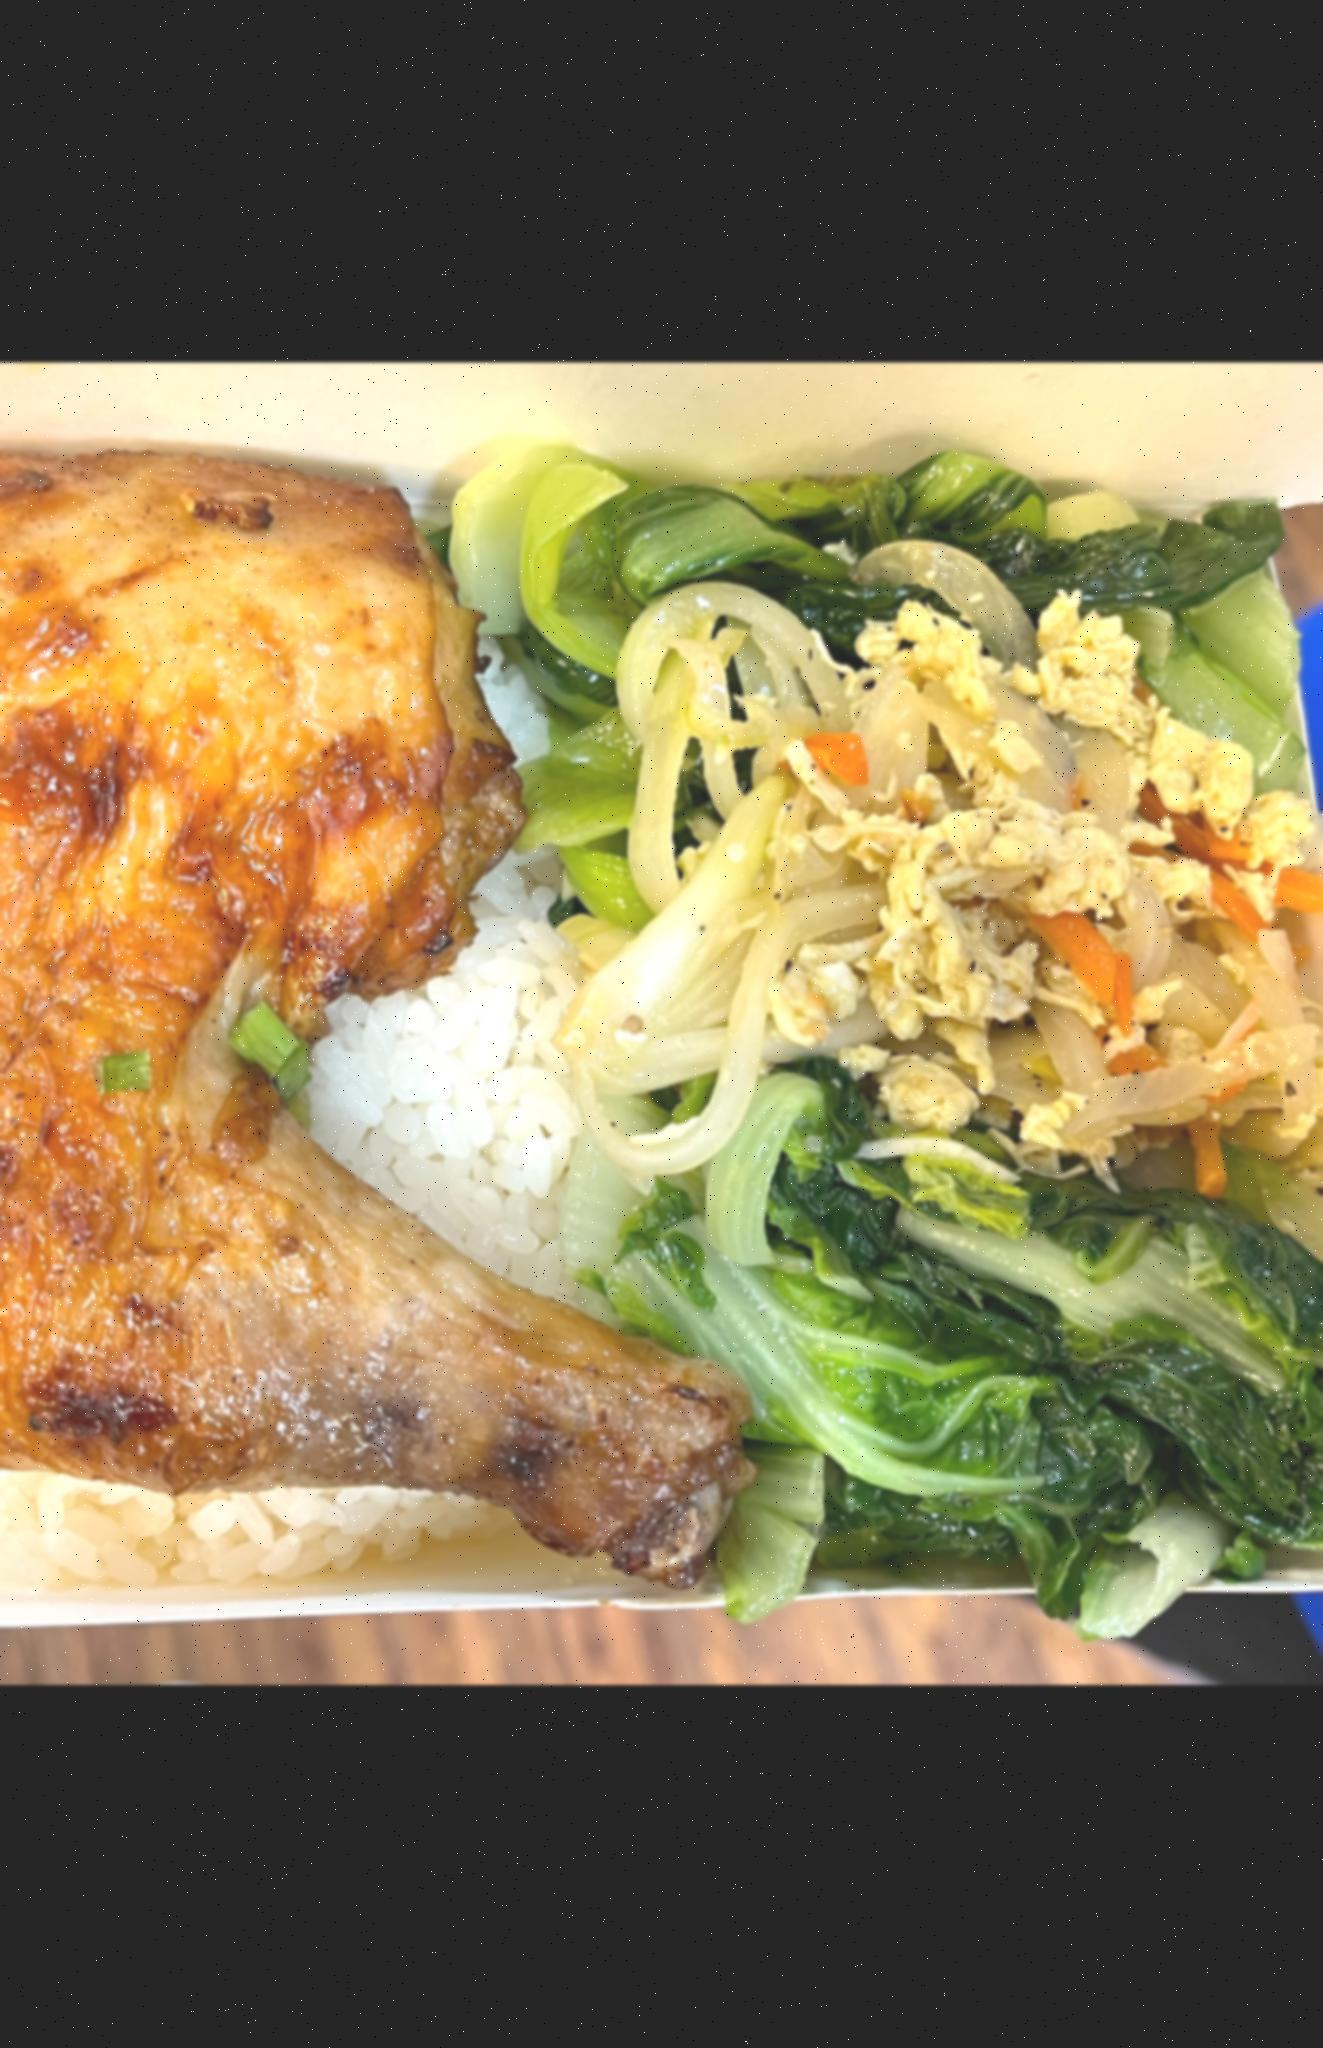big grilled chicken leg: (0, 397, 1323, 1667)
big herbal chicken leg: (0, 516, 609, 1545)
braised fish fillet: (641, 578, 1317, 1118), (518, 446, 1317, 878), (630, 1096, 1323, 1581)
brown rice: (0, 415, 751, 1584)
